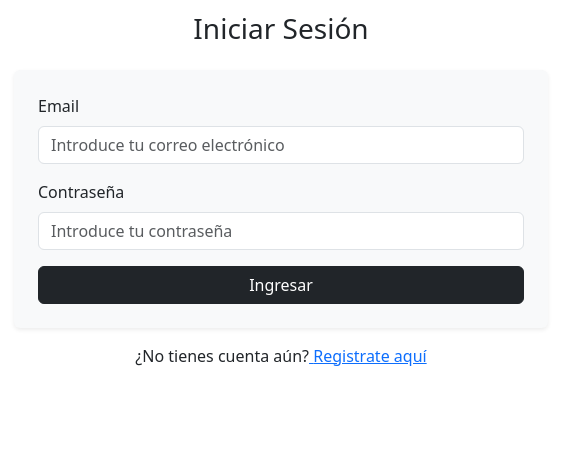
Login › muestra error si el login falla
In the field labelled "Email": point(281, 145) [38, 126, 524, 164], type "test@example.com"
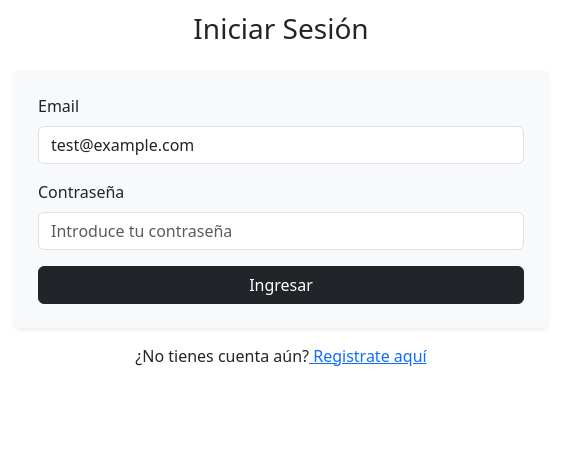
In the password field labelled "Contraseña": point(281, 231) [38, 212, 524, 250], type "wrongpassword"
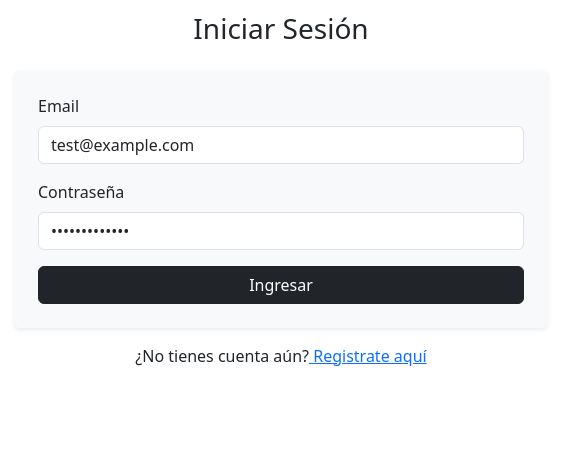
Submit the form from the button "Ingresar", box [38, 266, 524, 304]
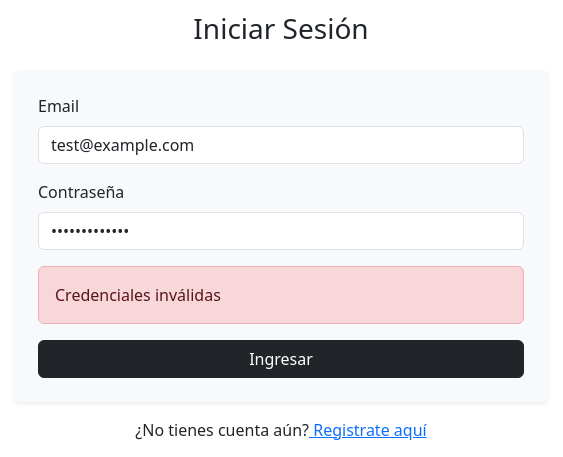
Result: the text "Credenciales inválidas" is shown at [38, 266, 524, 324]
